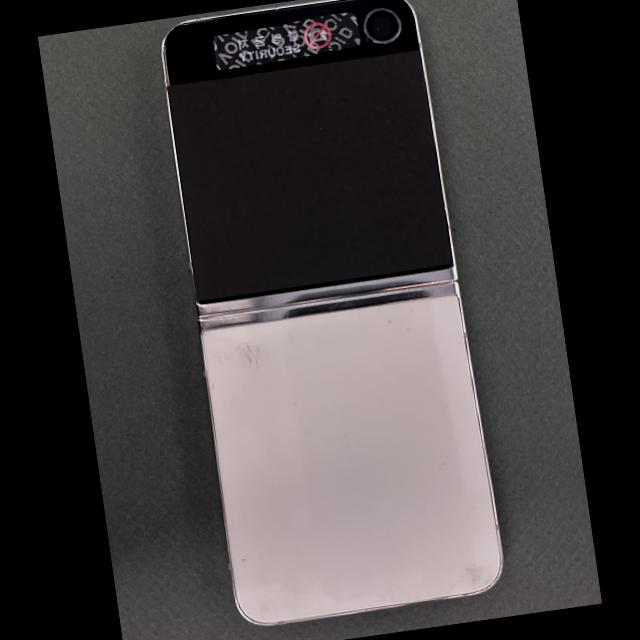lens: (364, 8, 400, 44)
phone: (162, 0, 501, 624)
sticker: (213, 13, 359, 70)
